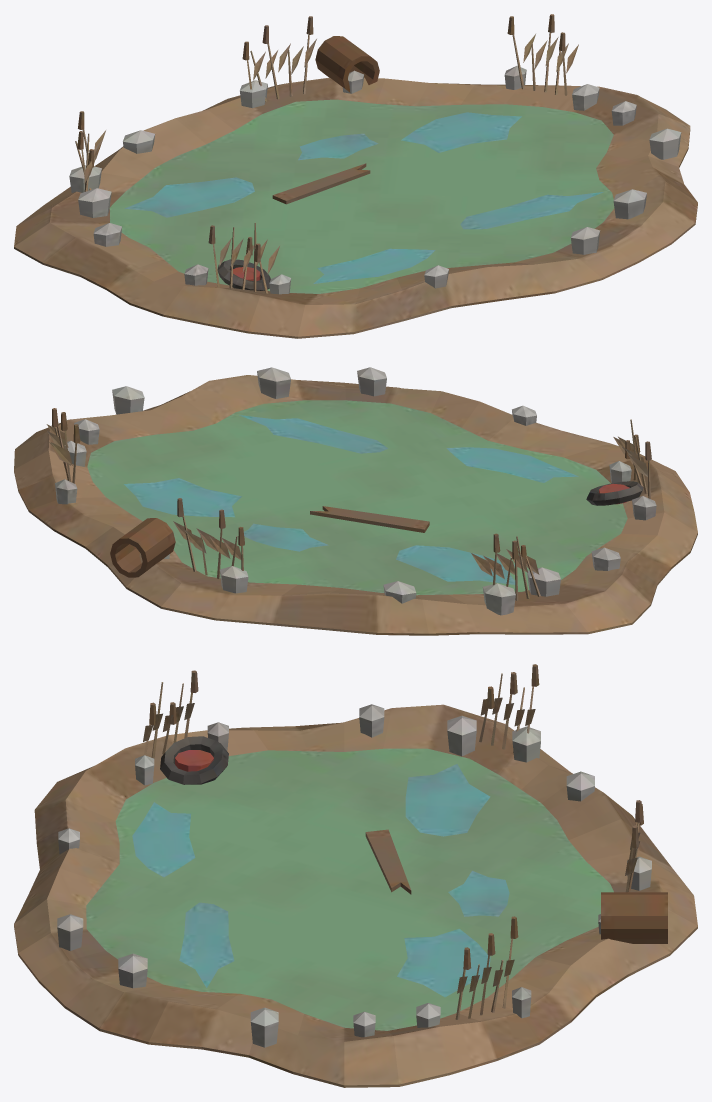
The model's file is RE21_dirty_pond.glb.
The picture shows the model from 3 angles, top to bottom: view 1: azimuth 30°, elevation 25°; view 2: azimuth 150°, elevation 25°; view 3: azimuth 270°, elevation 25°; orthographic projection. The views are drawn at different scales.
Parts seen in each view (by area): view 1: Irregular muddy pond bank; view 2: Irregular muddy pond bank; view 3: Irregular muddy pond bank.
Boxes of the visible parts, <box> form: Irregular muddy pond bank: <box>14,14,697,338</box>; Irregular muddy pond bank: <box>14,367,697,635</box>; Irregular muddy pond bank: <box>14,664,697,1087</box>.
Size of the model in its own units: 6 by 0.8011 by 4.62.
Materials: 9 (9 with a texture image).
